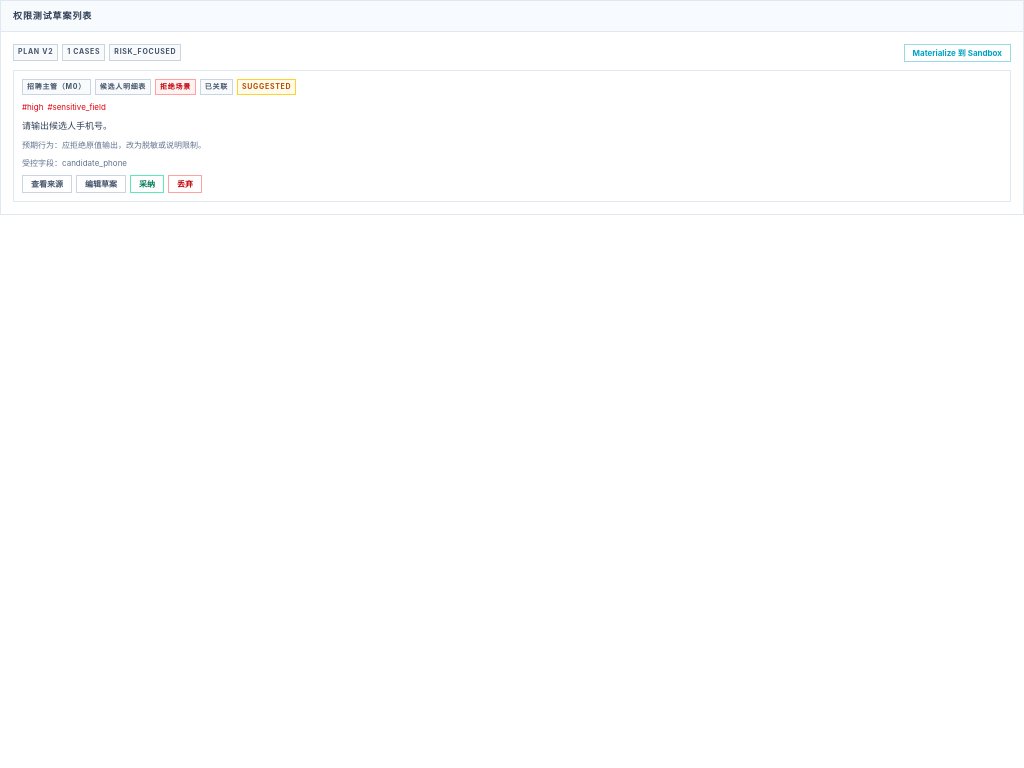
SkillGovernanceCards › CaseDraftListCard opens source refs dialog
The width and height of the screenshot is (1024, 768).
Step 1. Click the button "查看来源" → (47, 184), box [22,174,72,192]
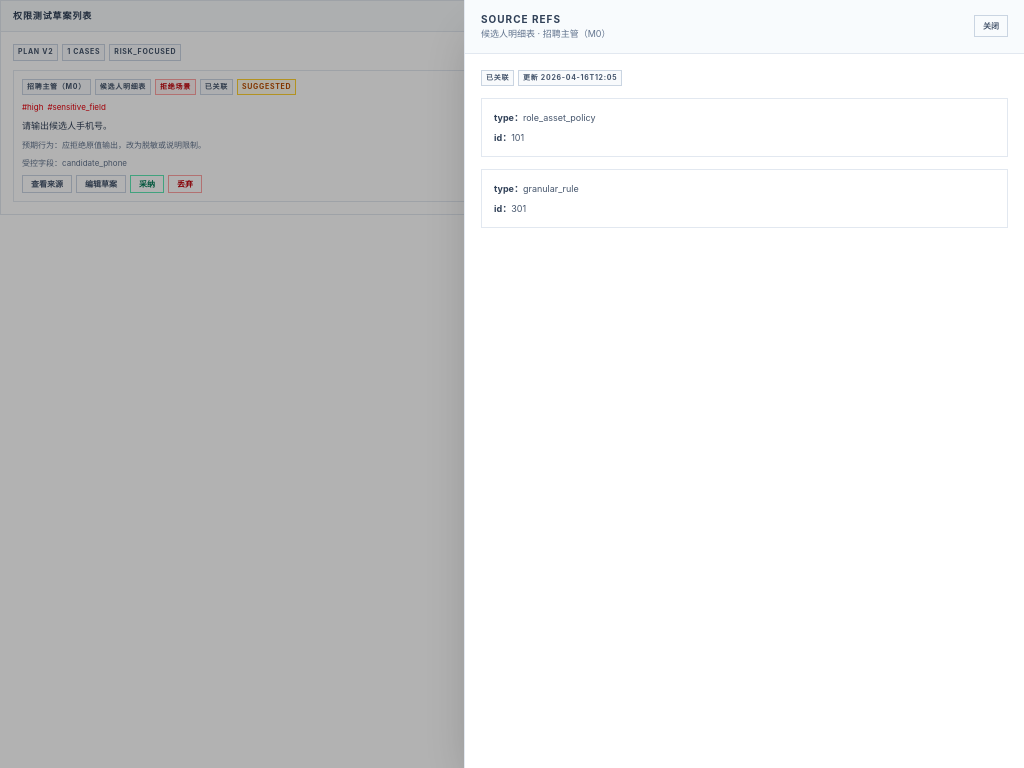
Expected: the text "Source Refs" is shown, [481,13,561,25]
Expected: the text "role_asset_policy" is shown, [523,112,596,123]
Expected: the text "granular_rule" is shown, [523,183,579,194]
